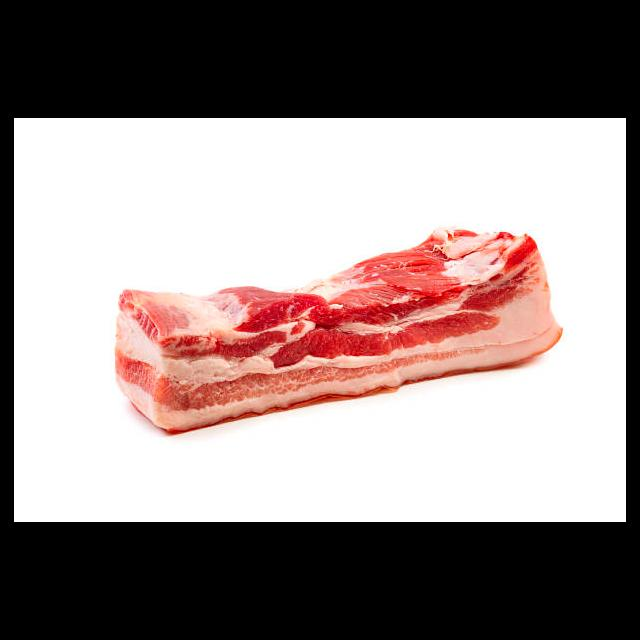pork: (111, 221, 562, 436)
